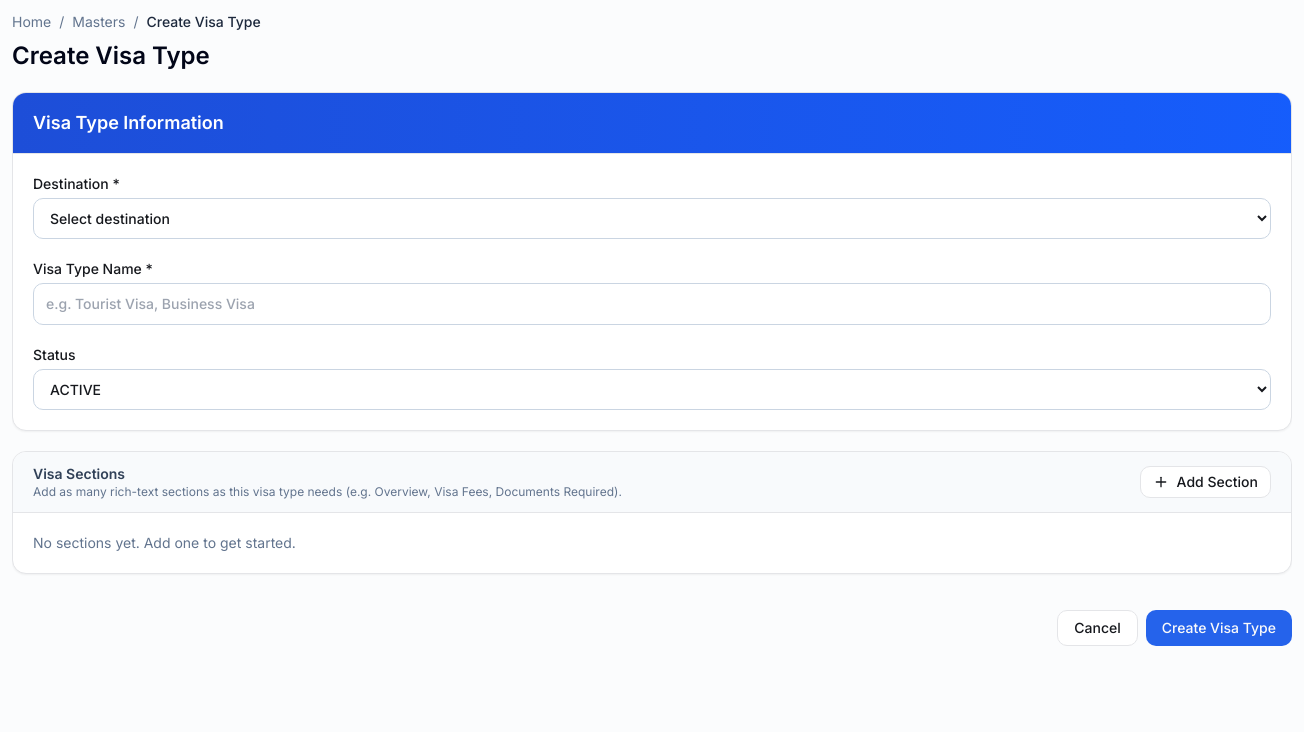
Test: Phase 21 visa type and testimonial pages › validates the visa type form and supports adding sections
Check: the heading "Create Visa Type" is shown, box [12,41,210,70]
What coordinates should you click on to do the following:
click the button "Create Visa Type"
I would click on:
 (1219, 628)
Its box is [1146,610,1292,646].
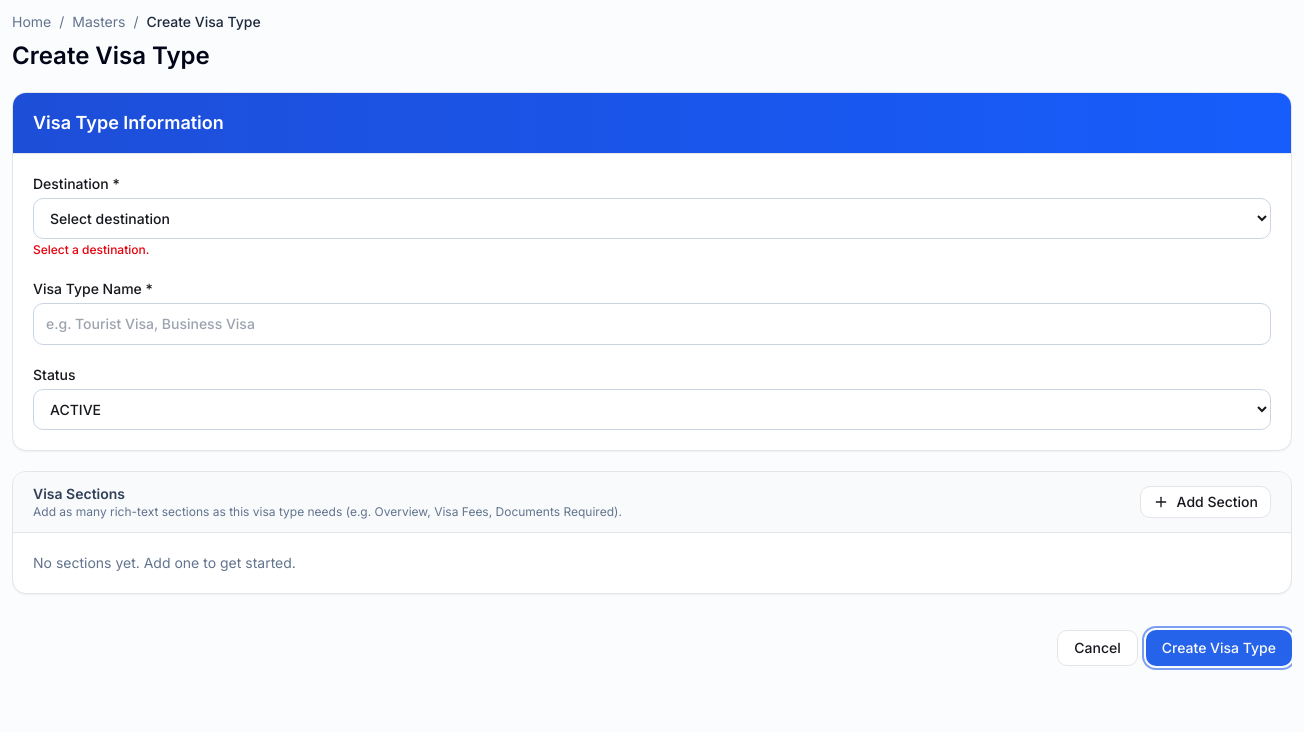
Check: the text "Select a destination." is shown, box [33,242,149,257]
What coordinates should you click on to do the following:
click the button "Add Section"
I would click on:
 (1205, 502)
Its box is [1140,486,1271,518].
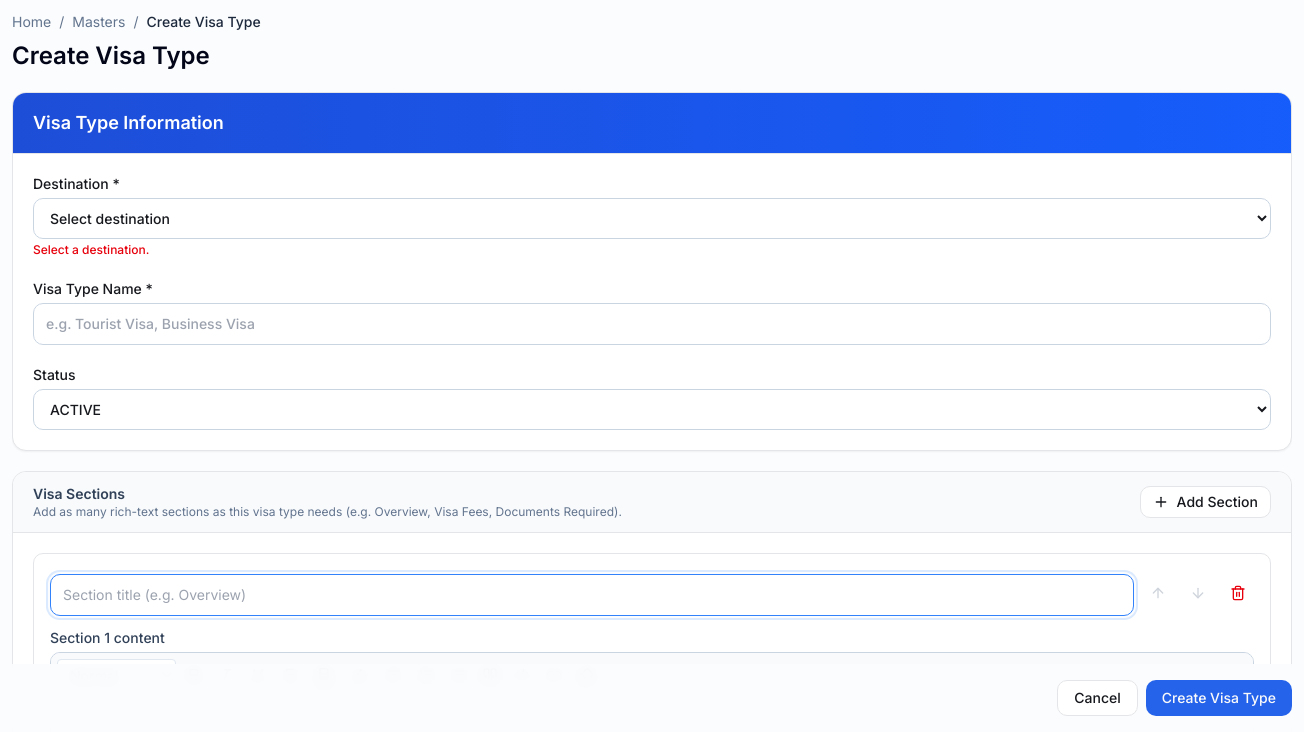
Check: the field named "Section 1 title" is shown, box [50,574,1134,616]
